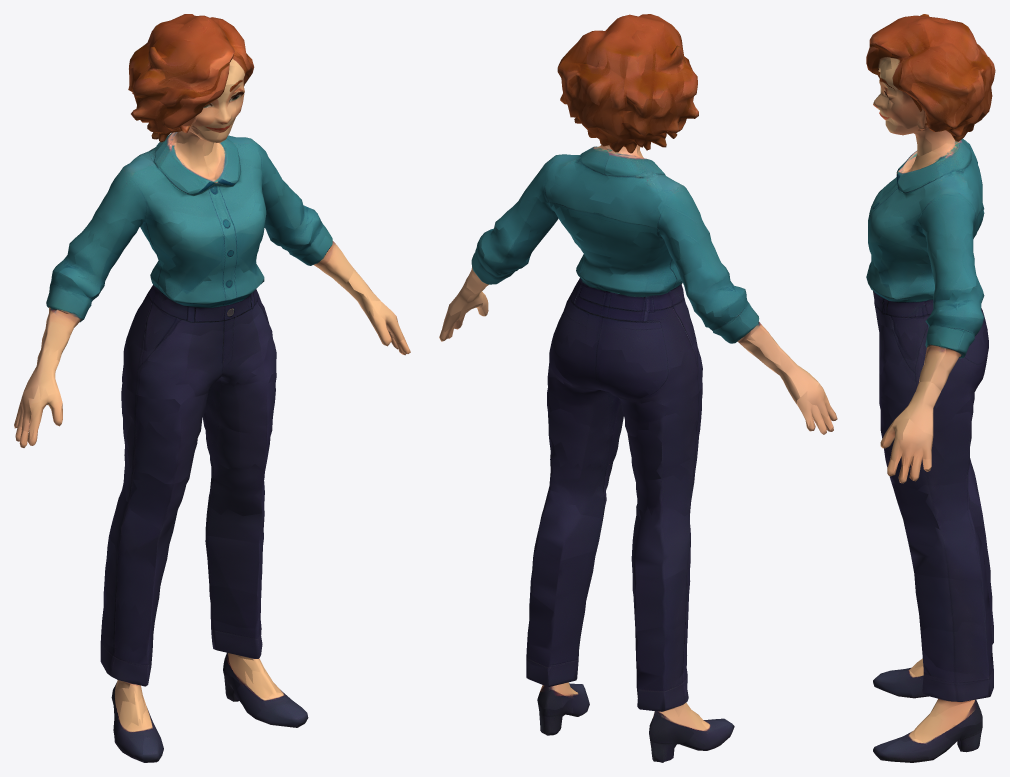
Rendered from natalia.glb.
3 views of the same model, side by side, from view 1: azimuth 30°, elevation 25°; view 2: azimuth 150°, elevation 25°; view 3: azimuth 270°, elevation 25° (orthographic).
Bounding box in the file's own units: 1.08 × 1.91 × 0.317.
1 material, 1 textured.
